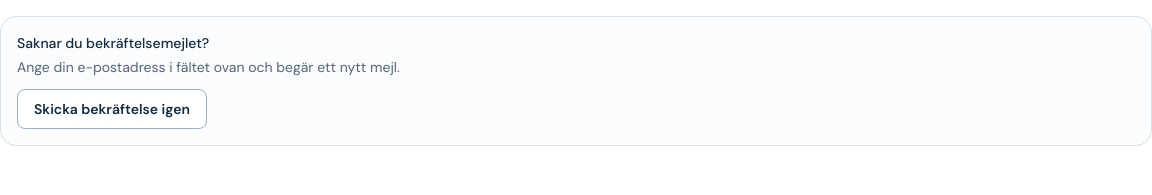
Scenario: does not claim that a failed resend was sent
What coordinates should you click on to do the following:
click the button "Skicka bekräftelse igen"
I would click on:
 (112, 109)
Its box is [17,89,207,129].
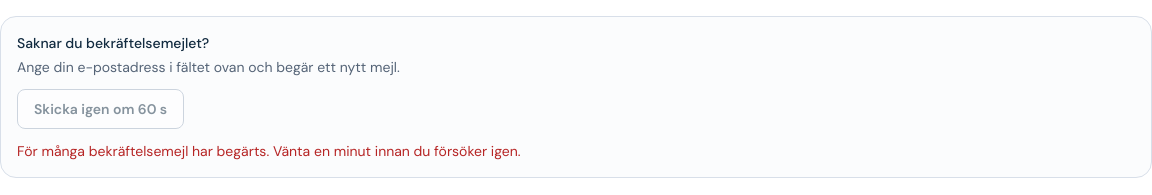
Expected: the message shows "Vänta en minut", [17,142,520,160]
